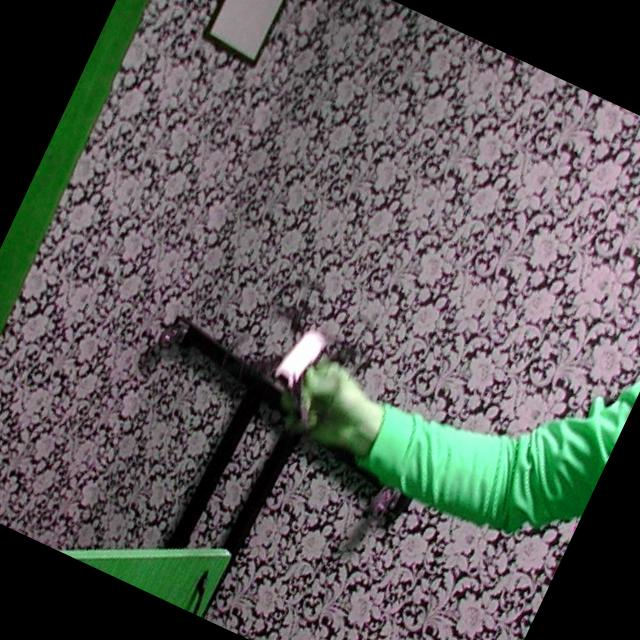drone: (206, 258, 390, 463)
